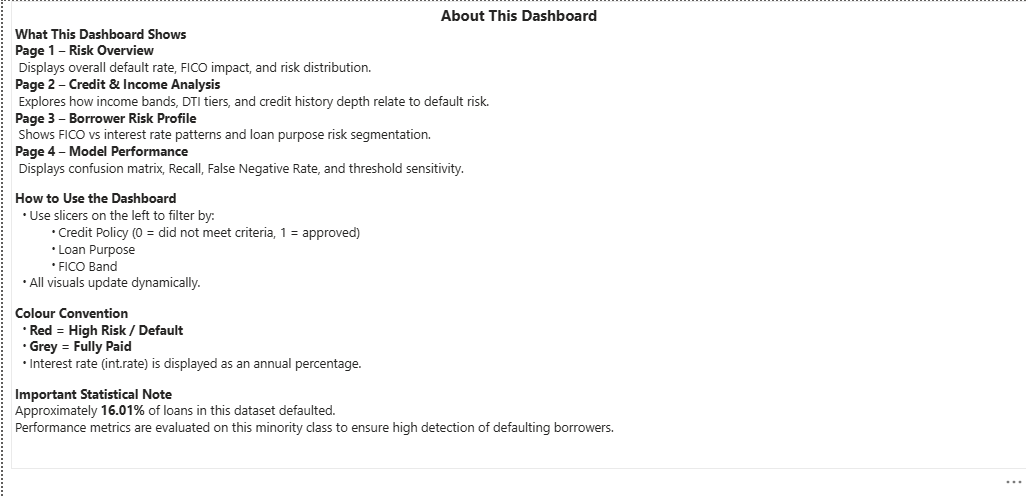

What the dashboard file says about the page in this screenshot:
{"tool":"powerbi","page":{"name":"About This Dashboard","canvas":[1280,720],"ordinal":0},"visuals":[{"type":"textbox","box":[10.1,0,1270.1,584.6],"z":0}]}

Visuals, with their boxes on the page's 1280x720 design canvas (x1, y1, x2, y2). These are canvas units, not pixel positions in the 1026x496 screenshot, which may show the page scaled, cropped or inside an application window:
textbox: {"x1": 10, "y1": 0, "x2": 1280, "y2": 585}
